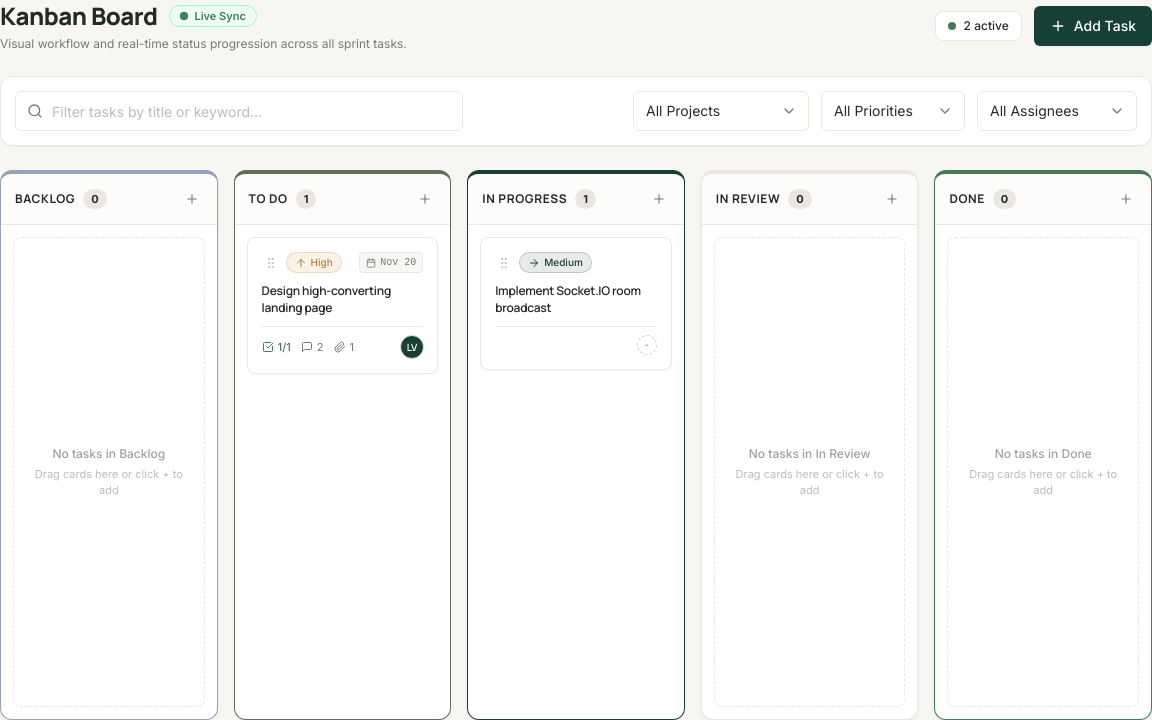
Scenario: Stage 07: Kanban Board & Real-Time Collaboration › opens Task Details modal when task card is clicked
Click the heading "Design high-converting landing page" at [326, 299], box [262,282,391,316]
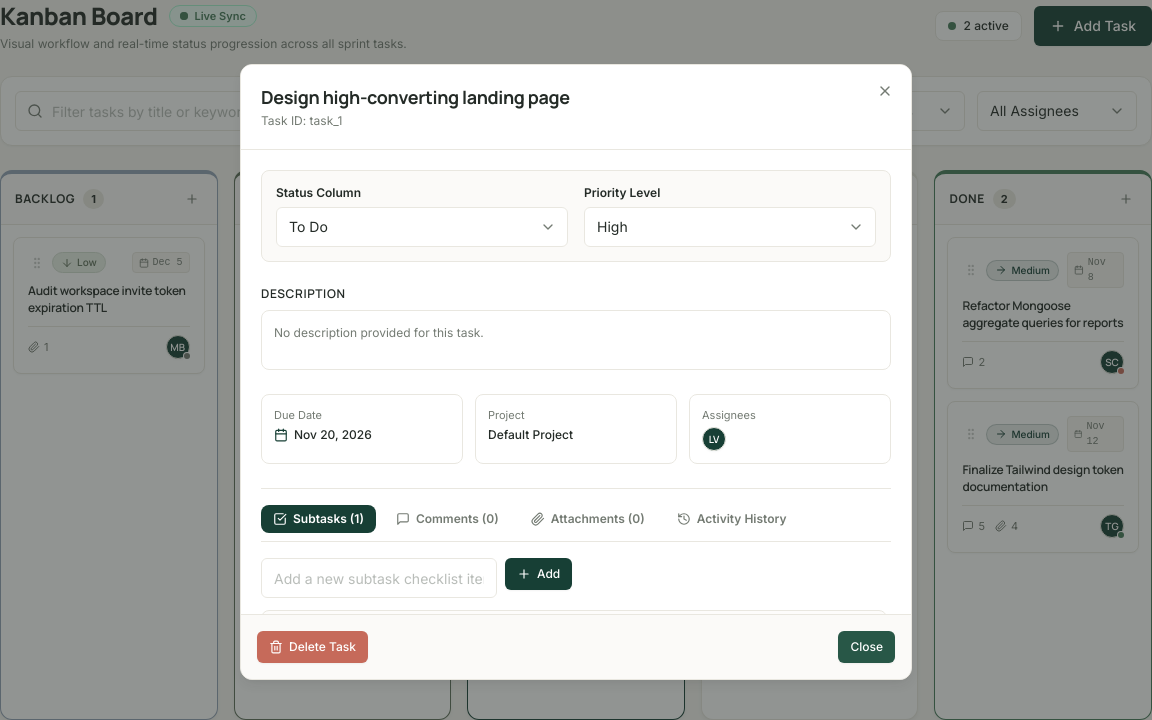
expect the button "Delete Task" is shown: met, box [257,631,368,663]
